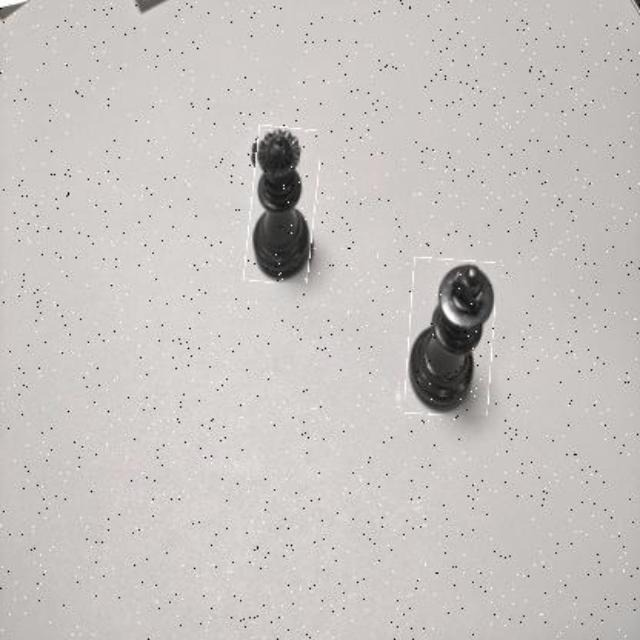black-king: (407, 259, 494, 417)
black-queen: (247, 126, 317, 284)
